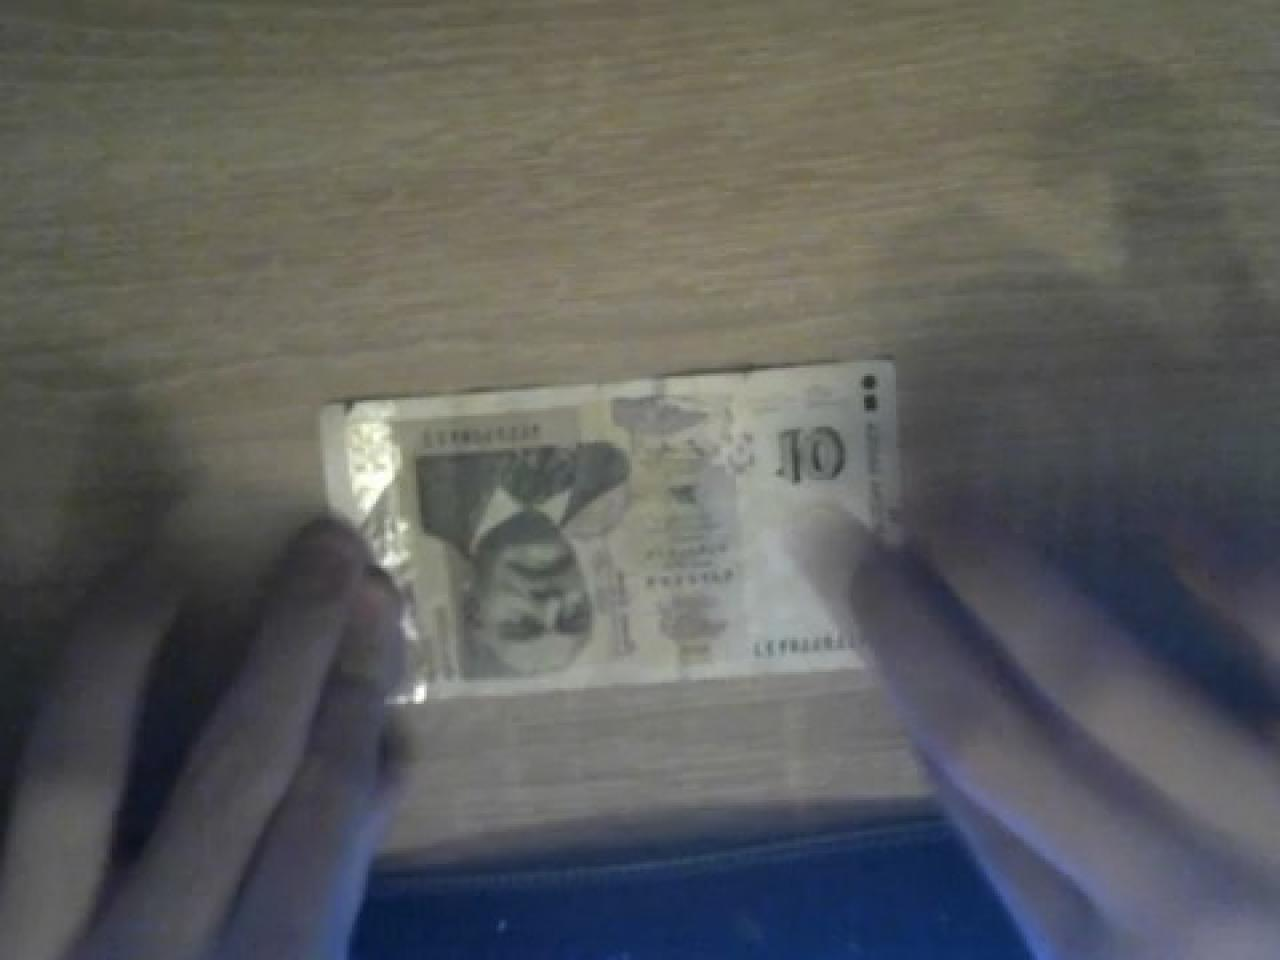10leva: (326, 355, 896, 699)
